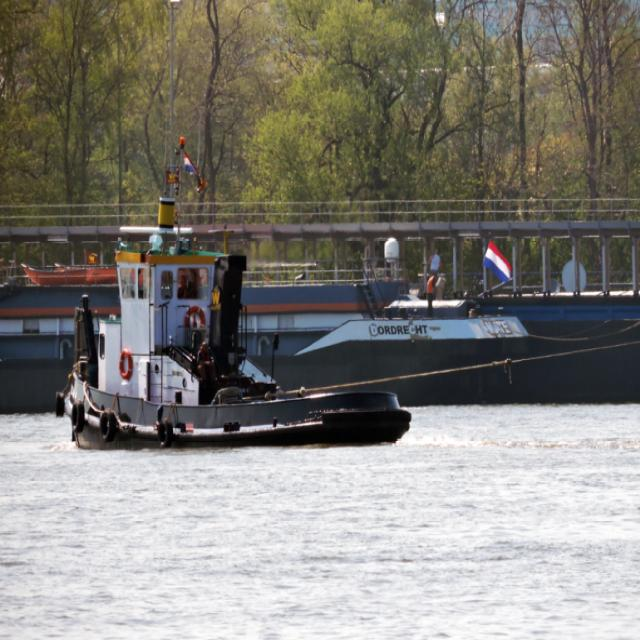tugboat: (53, 191, 417, 457)
